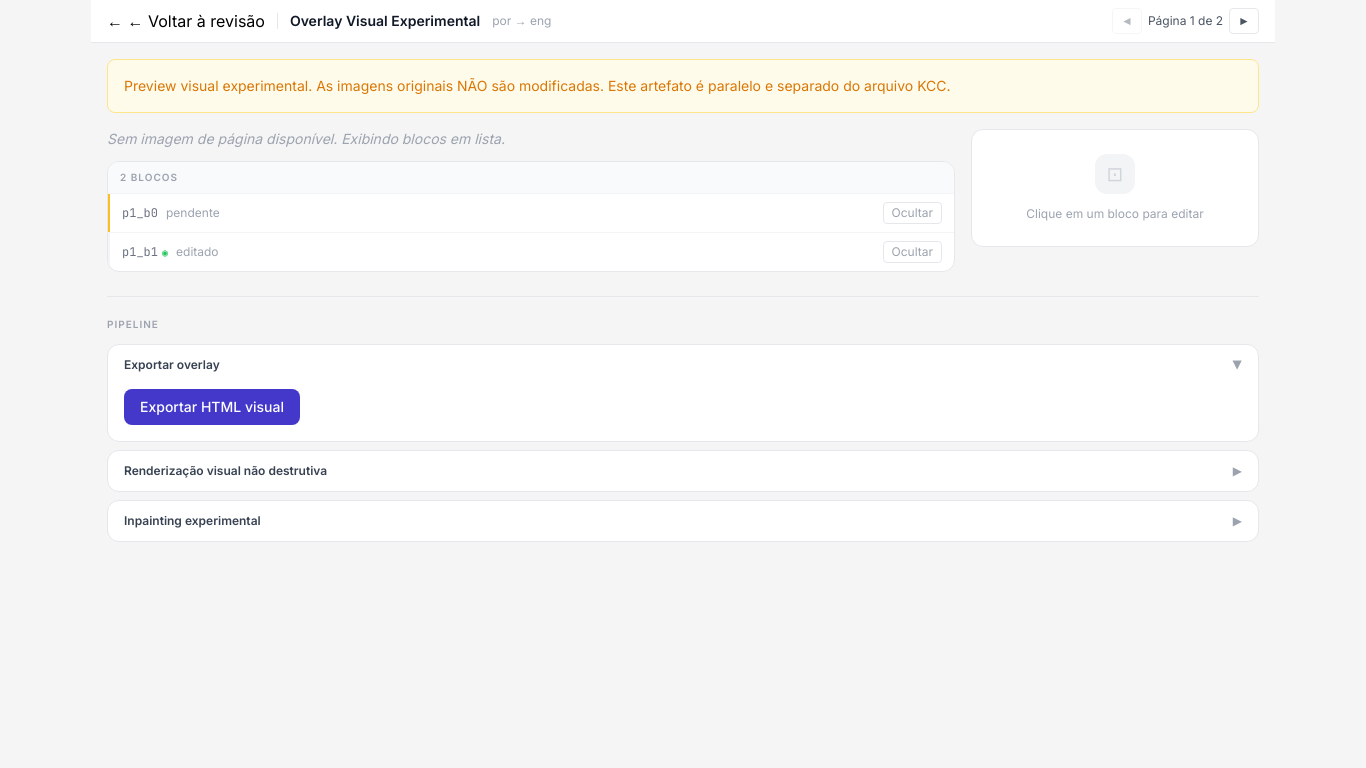
Test: ComicOverlayPage — Fase F › clicar em bloco exibe painel lateral com detalhes
This screenshot has width=1366, height=768.
Click the button with aria-label "bloco p1_b0" at x=140, y=213, box x1=108 y1=194 x2=954 y2=232
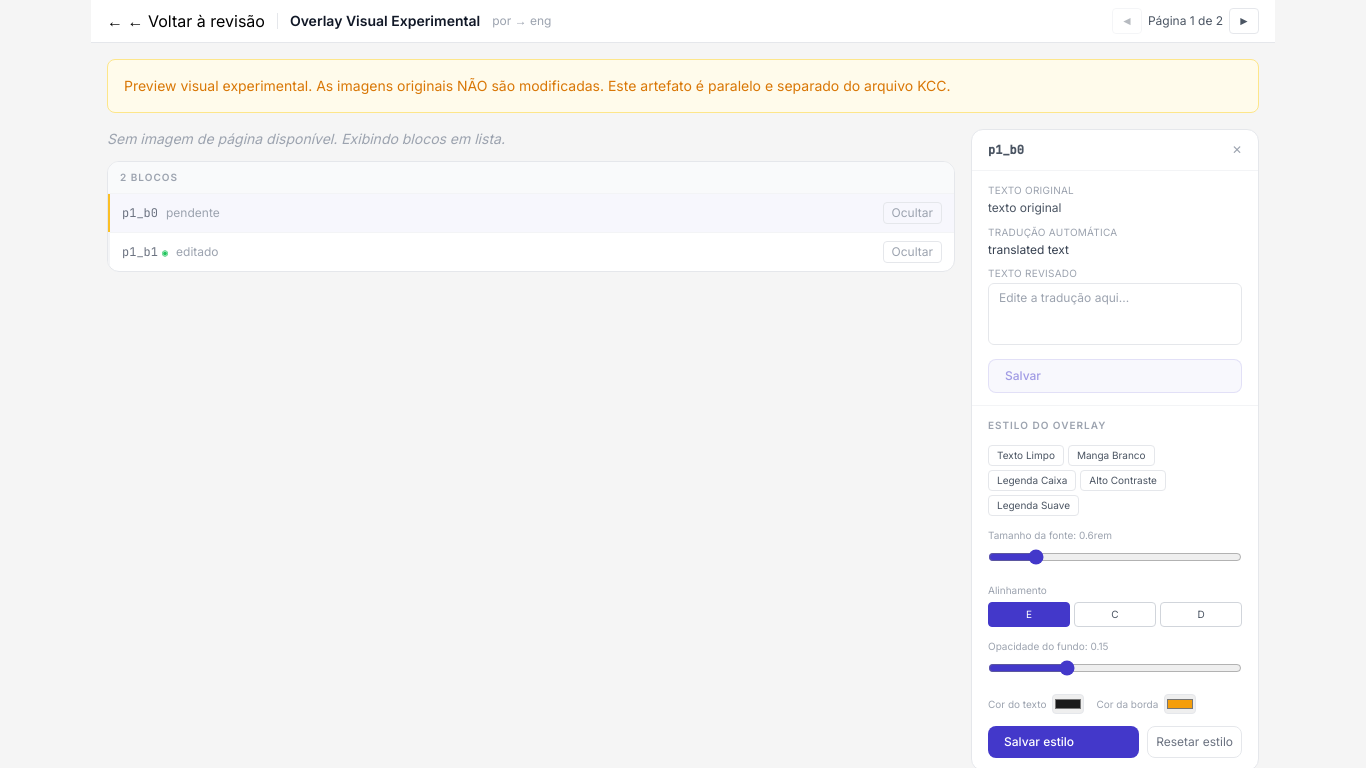
Expected: the text "translated text" is shown, x1=988 y1=242 x2=1069 y2=256
